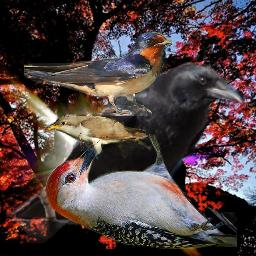Crow: (3, 61, 244, 243)
Cuckoo: (45, 114, 150, 164)
Swallow: (24, 32, 172, 116)
Woodpecker: (46, 134, 237, 249)
